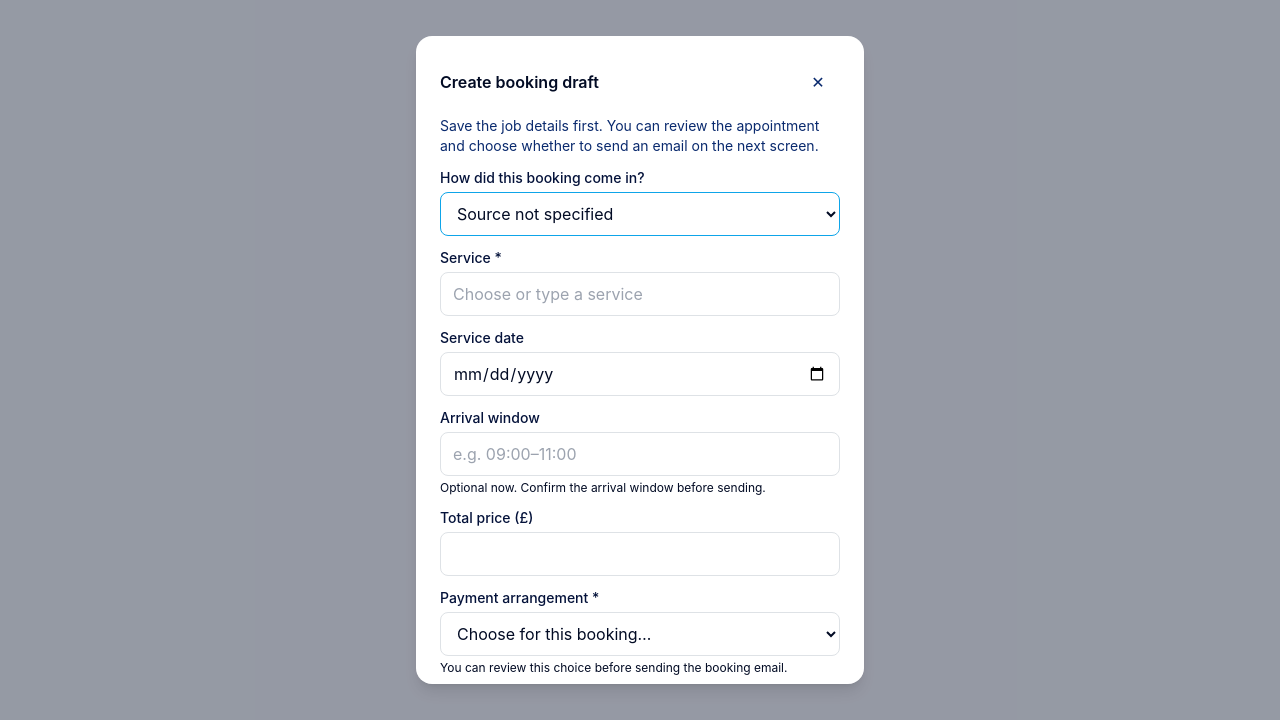
manual booking payment choice › requires an explicit choice rather than assuming a deposit
In the field labelled "Service *": (640, 294) [440,272,840,316], type "Carpet cleaning"
(page scrolled)
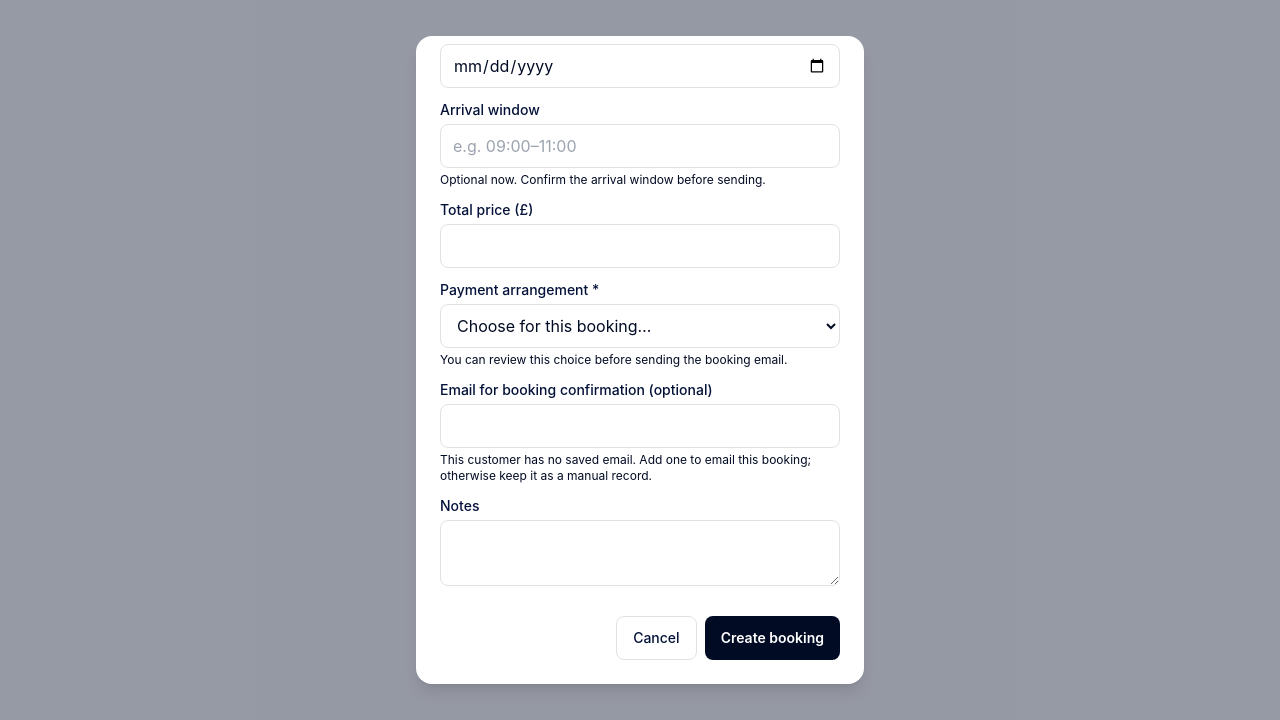
Click the button "Create booking": click(772, 638) [705,616,840,660]
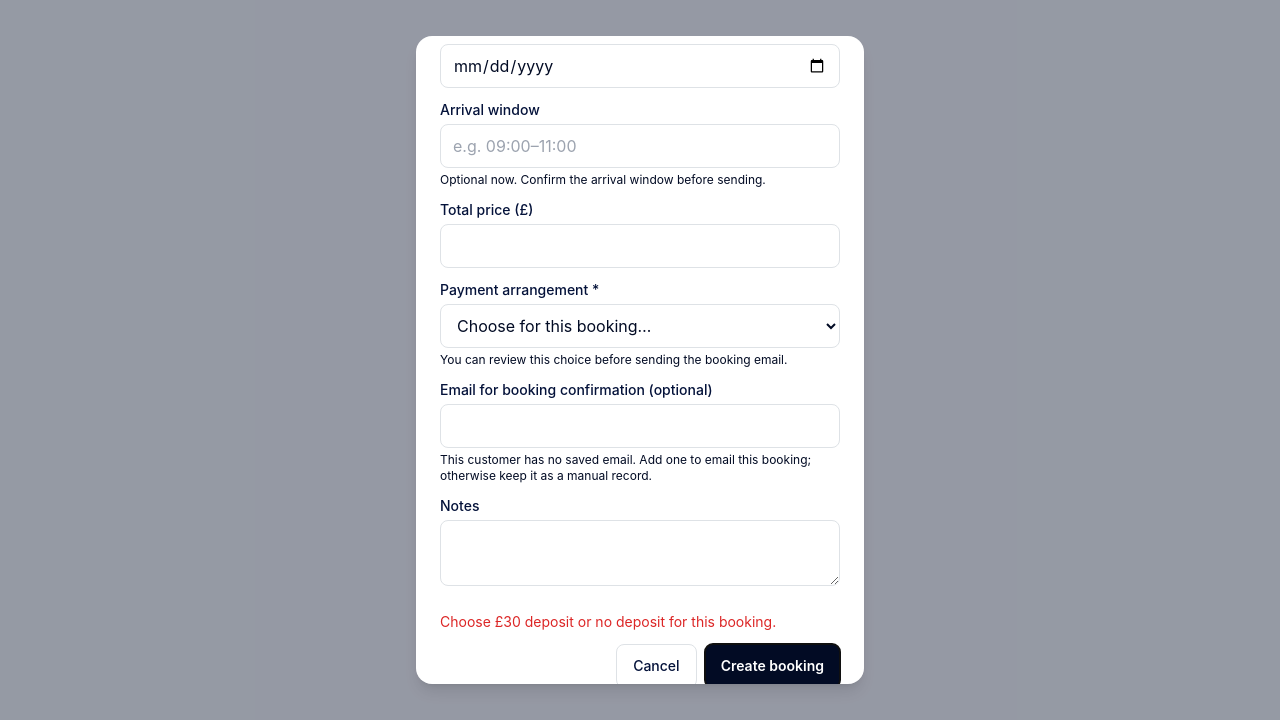
Expected: the message shows "Choose", [440,613,776,630]
